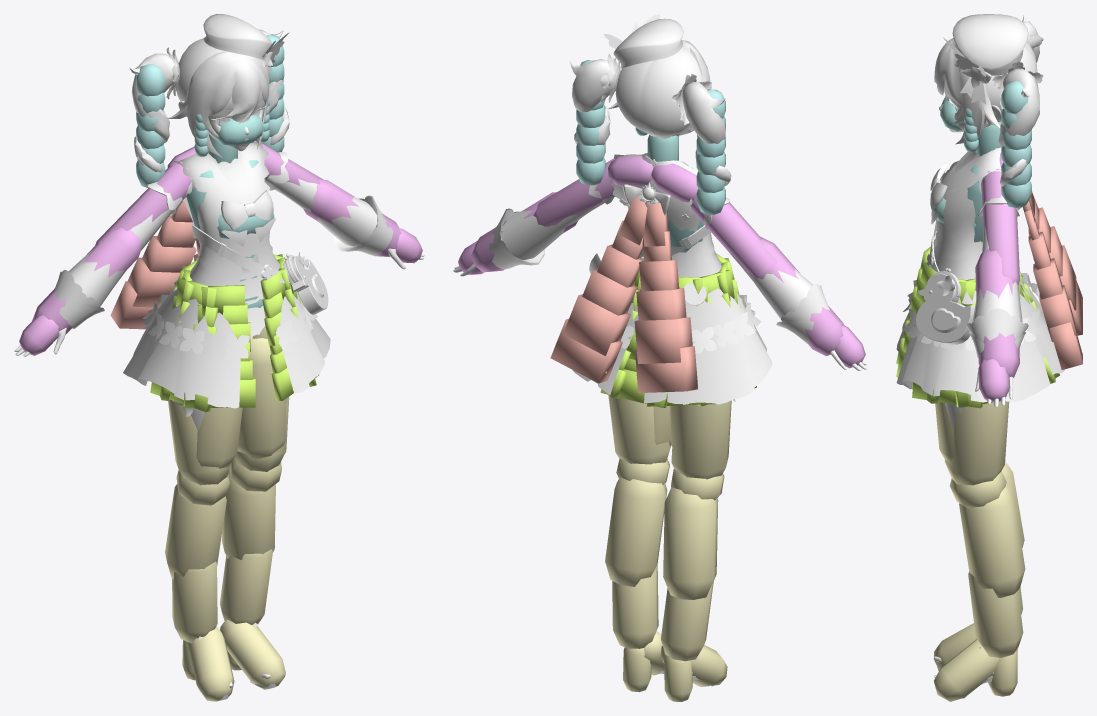
Rendered from bbl.fbx.
3 views of the same model, side by side, from view 1: azimuth 30°, elevation 25°; view 2: azimuth 150°, elevation 25°; view 3: azimuth 270°, elevation 25° (orthographic). The views are drawn at different scales.
Parts seen in each view (by area): view 1: 000_服, 00A_裙, 00M_发, 006_花, 00M_右脹脛, 00F_左足, 00L_左脹脛, 00N_左脛, 00O_右脛, 00P_左足首, 003_包, 00Y_右ひじ (+22 smaller); view 2: 000_服, 00A_裙, 00M_右脹脛, 00L_左脹脛, 00N_后发, 00M_发, 00I_右足2, 00N_左脛, 00H_左足2, 00O_右脛, 00W_右腕, 03L_左飘带_4_1 (+26 smaller); view 3: 00A_裙, 000_服, 00L_左脹脛, 00M_发, 00H_左足2, 008_帽, 003_包, 00N_左脛, 00V_左腕, 00X_左ひじ, 00P_左足首, 006_花 (+26 smaller).
Part boxes in pixels (box(x1,y1,x2,y2)): 000_服: box(53, 142, 393, 700); 00A_裙: box(123, 240, 330, 408); 00M_发: box(129, 29, 289, 172); 006_花: box(142, 140, 317, 639); 00M_右脹脛: box(165, 484, 226, 579); 00F_左足: box(237, 338, 286, 460); 00L_左脹脛: box(221, 469, 275, 559); 00N_左脛: box(220, 549, 272, 624); 00O_右脛: box(172, 561, 217, 643); 00P_左足首: box(220, 620, 285, 689); 003_包: box(192, 224, 328, 314); 00Y_右ひじ: box(32, 227, 142, 333); 000_服: box(488, 153, 830, 686); 00A_裙: box(572, 233, 772, 404); 00M_右脹脛: box(663, 487, 718, 599); 00L_左脹脛: box(605, 477, 667, 586); 00N_后发: box(615, 47, 702, 138); 00M_发: box(569, 40, 731, 186); 00I_右足2: box(671, 400, 731, 479); 00N_左脛: box(612, 563, 658, 648); 00H_左足2: box(608, 395, 670, 464); 00O_右脛: box(661, 582, 713, 661); 00W_右腕: box(691, 197, 776, 279); 03L_左飘带_4_1: box(563, 294, 630, 355); 00A_裙: box(896, 226, 1064, 402); 000_服: box(927, 147, 1028, 698); 00L_左脹脛: box(959, 484, 1025, 597); 00M_发: box(934, 15, 1039, 186); 00H_左足2: box(945, 401, 1009, 485); 008_帽: box(952, 14, 1028, 83); 003_包: box(915, 220, 976, 344); 00N_左脛: box(968, 571, 1023, 657); 00V_左腕: box(981, 169, 1019, 284); 00X_左ひじ: box(975, 249, 1019, 377); 00P_左足首: box(933, 639, 998, 701); 006_花: box(903, 161, 1047, 648).
Size of the model in its own units: 1275 by 1957 by 493.
